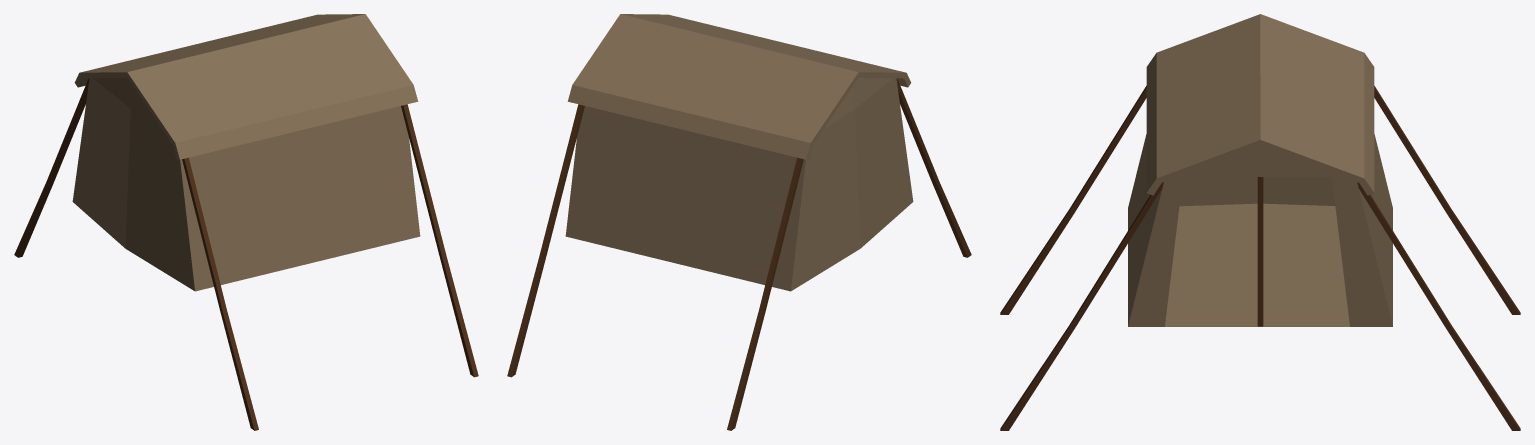
File: BigTent2.fbx
3 views of the same model, side by side, from view 1: azimuth 30°, elevation 25°; view 2: azimuth 150°, elevation 25°; view 3: azimuth 270°, elevation 25° (orthographic). The views are drawn at different scales.
Parts seen in each view (by area): view 1: Tent, Rain Cover, TentPole.001; view 2: Tent, Rain Cover, TentPole.001; view 3: Tent, Rain Cover, TentPole.001, TentPole.
Part boxes in pixels (x1=…): Tent: x1=72, y1=77, x2=420, y2=291; Rain Cover: x1=74, y1=14, x2=418, y2=159; TentPole.001: x1=14, y1=78, x2=478, y2=430; Tent: x1=565, y1=77, x2=913, y2=291; Rain Cover: x1=567, y1=14, x2=911, y2=159; TentPole.001: x1=507, y1=78, x2=971, y2=430; Tent: x1=1128, y1=134, x2=1392, y2=326; Rain Cover: x1=1146, y1=14, x2=1374, y2=195; TentPole.001: x1=1000, y1=86, x2=1520, y2=430; TentPole: x1=1257, y1=177, x2=1263, y2=326.
Size of the model in its own units: 363 by 393 by 629.
1 material, 1 textured.
